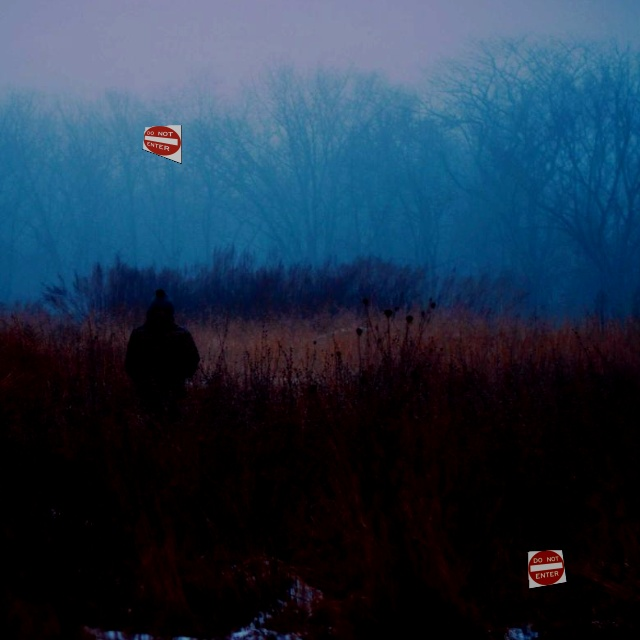DO_NOT_ENTER: (142, 124, 182, 164), (527, 549, 567, 589)
